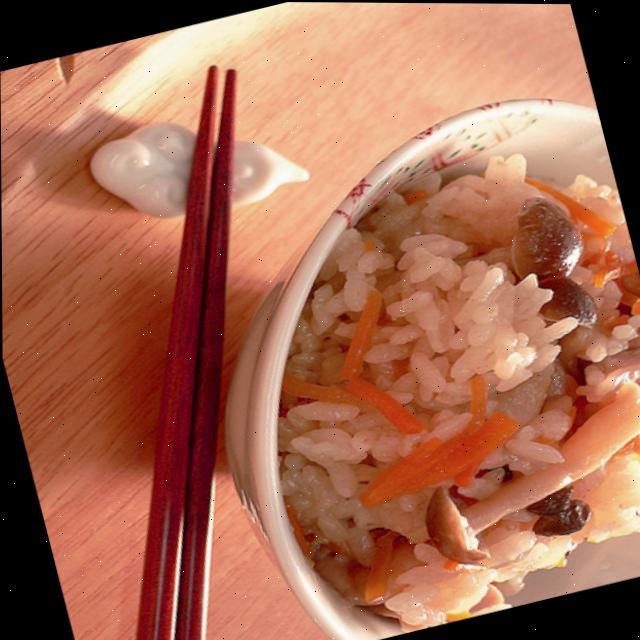米饭主食: (209, 130, 640, 640)
